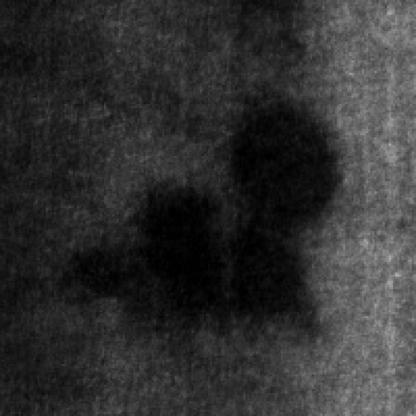patches: (62, 175, 216, 312), (223, 89, 339, 229), (218, 229, 310, 318)
